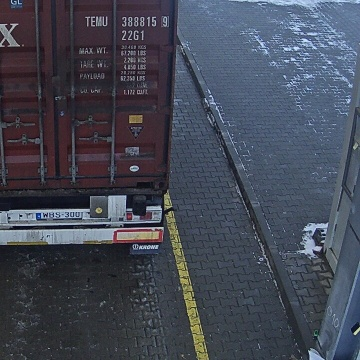serial_id: (85, 16, 168, 26)
